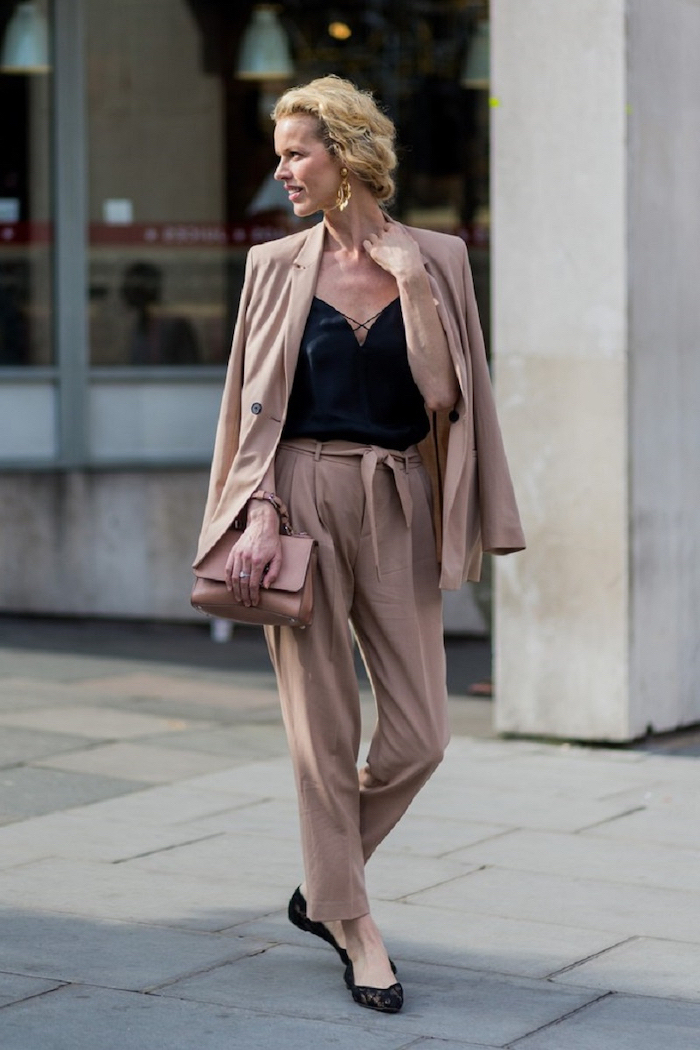F_W_suit jacket: (173, 227, 530, 579)
